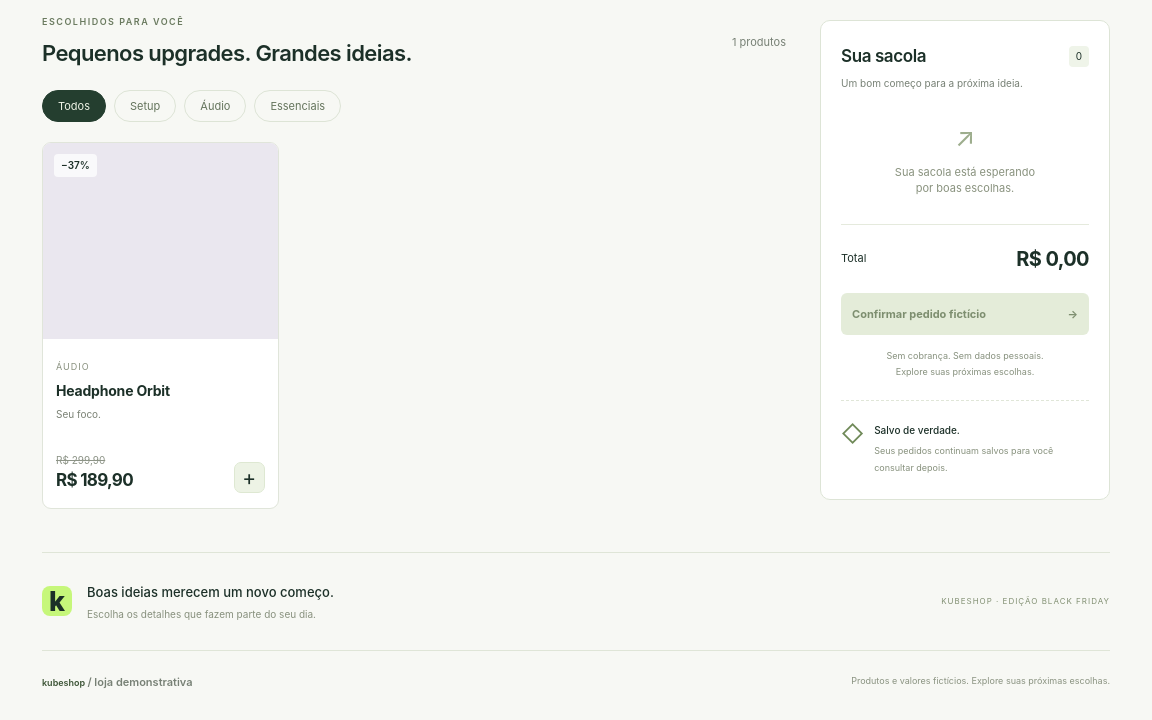
Scenario: KubeShop - frontend › permite remover produtos da sacola
This screenshot has width=1152, height=720.
(page scrolled)
Click the button named "Adicionar Headphone Orbit".
click(249, 478)  # box [234,462,265,493]
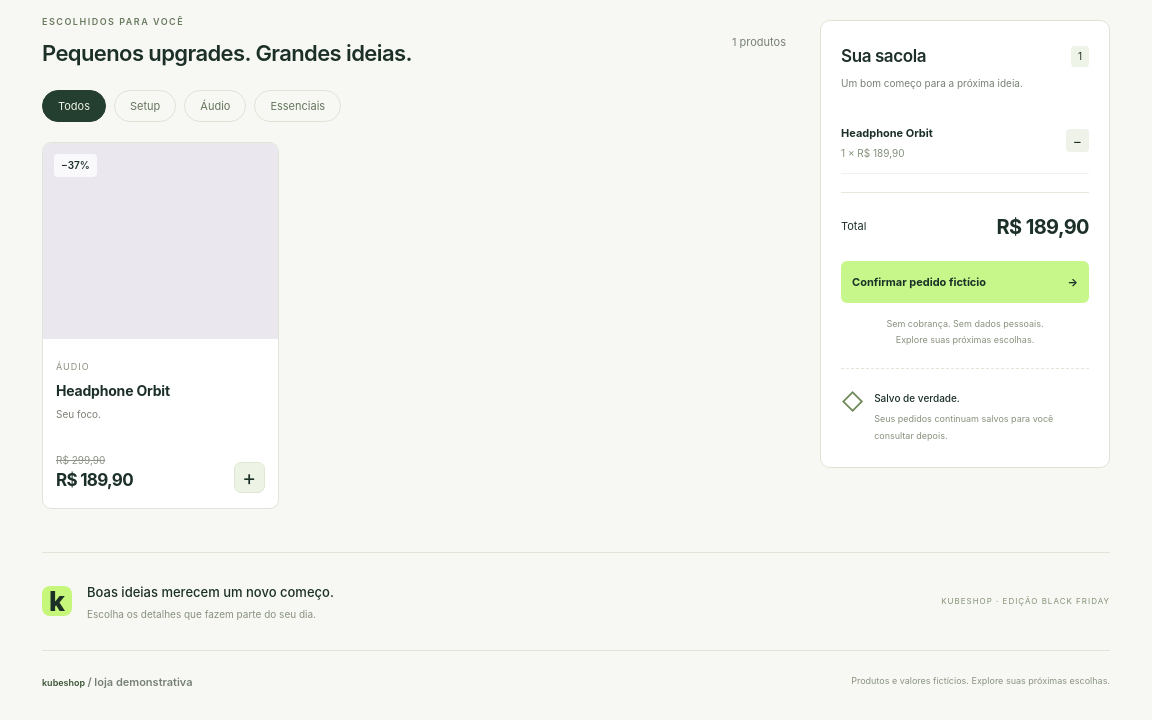
Now the text "1 × R$ 189,90" is shown, box [841,146,904,158]
Click the button named "Remover uma unidade de Headphone Orbit".
click(1078, 140)  # box [1066,129,1089,152]
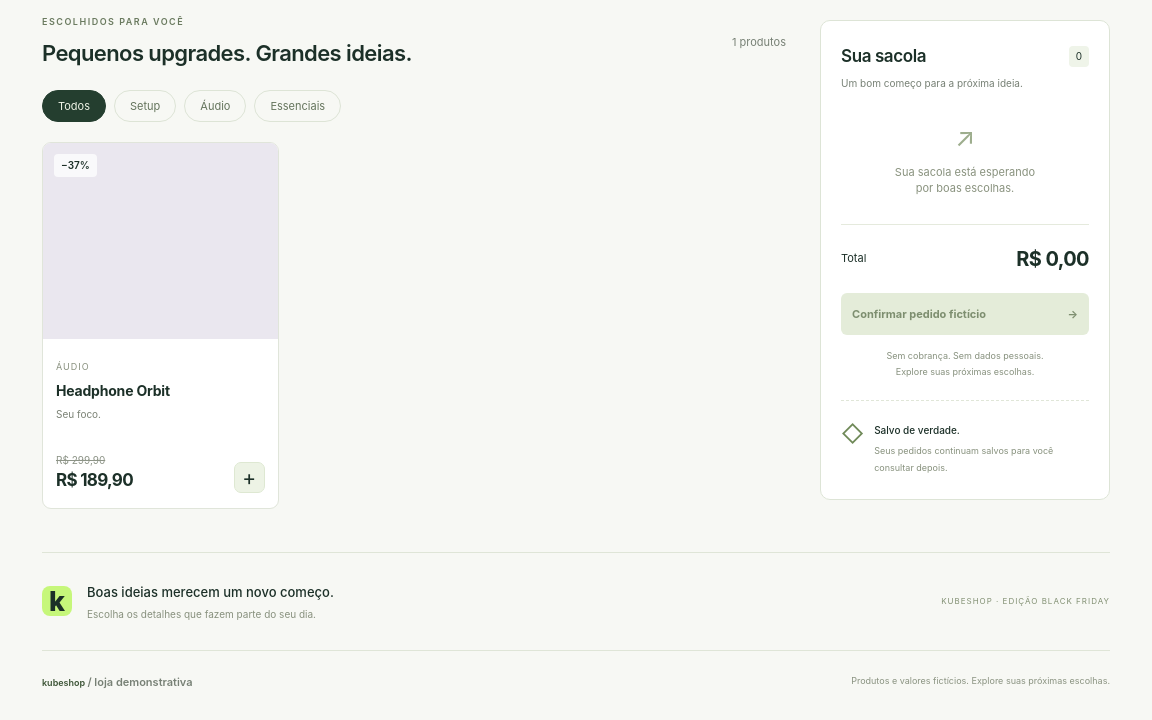
Now the text "1 × R$ 189,90" is gone
Now the button "Confirmar pedido fictício →" is disabled, box [841,292,1089,335]
